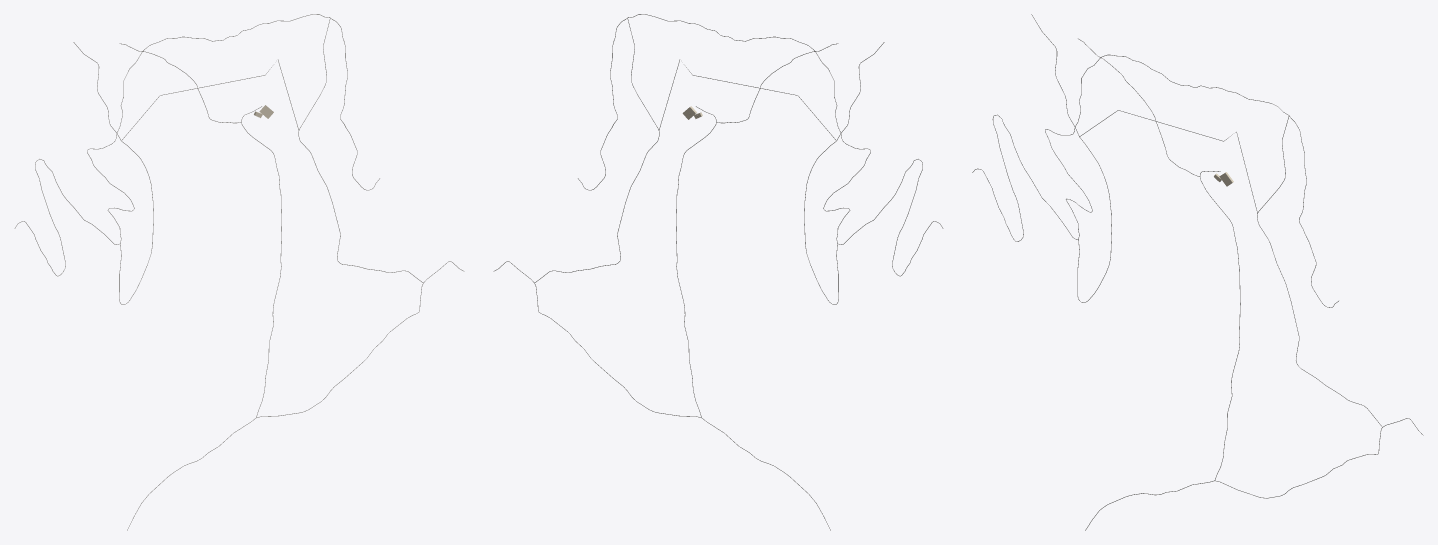
File: historic-palestine-12_33_3537_3270.glb
The picture shows the model from 3 angles, left to right: view 1: azimuth 30°, elevation 25°; view 2: azimuth 150°, elevation 25°; view 3: azimuth 330°, elevation 25°; orthographic projection.
Parts seen in each view (by area): view 1: Road; view 2: Road; view 3: Road.
Part boxes in pixels (x1=…): Road: x1=14, y1=14, x2=379, y2=276; Road: x1=578, y1=14, x2=943, y2=276; Road: x1=972, y1=54, x2=1338, y2=307.
Size of the model in its own units: 1418 by 1512 by 8.7.
